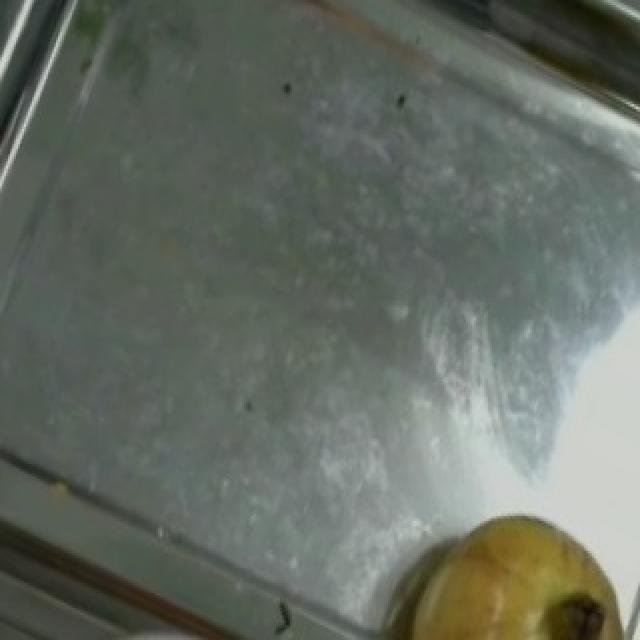fruit: (392, 488, 640, 638)
